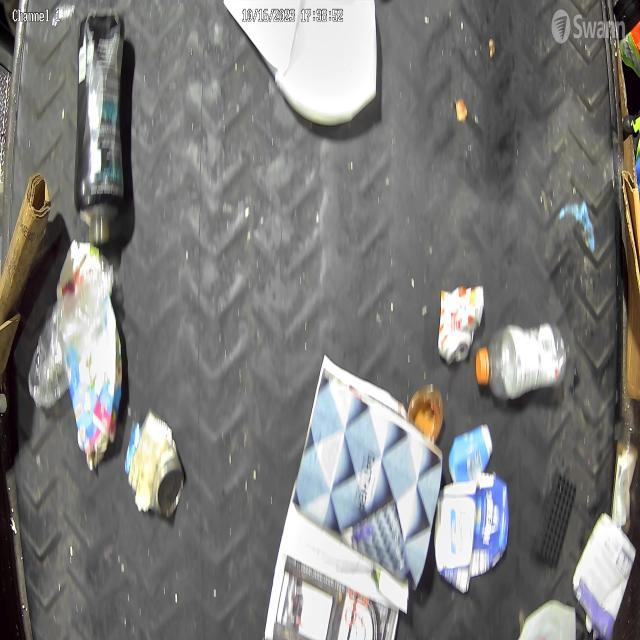can: (128, 416, 184, 515), (442, 282, 486, 368)
milk_jug: (222, 0, 379, 124)
plastic_bottle: (29, 270, 110, 410), (477, 318, 568, 407)
